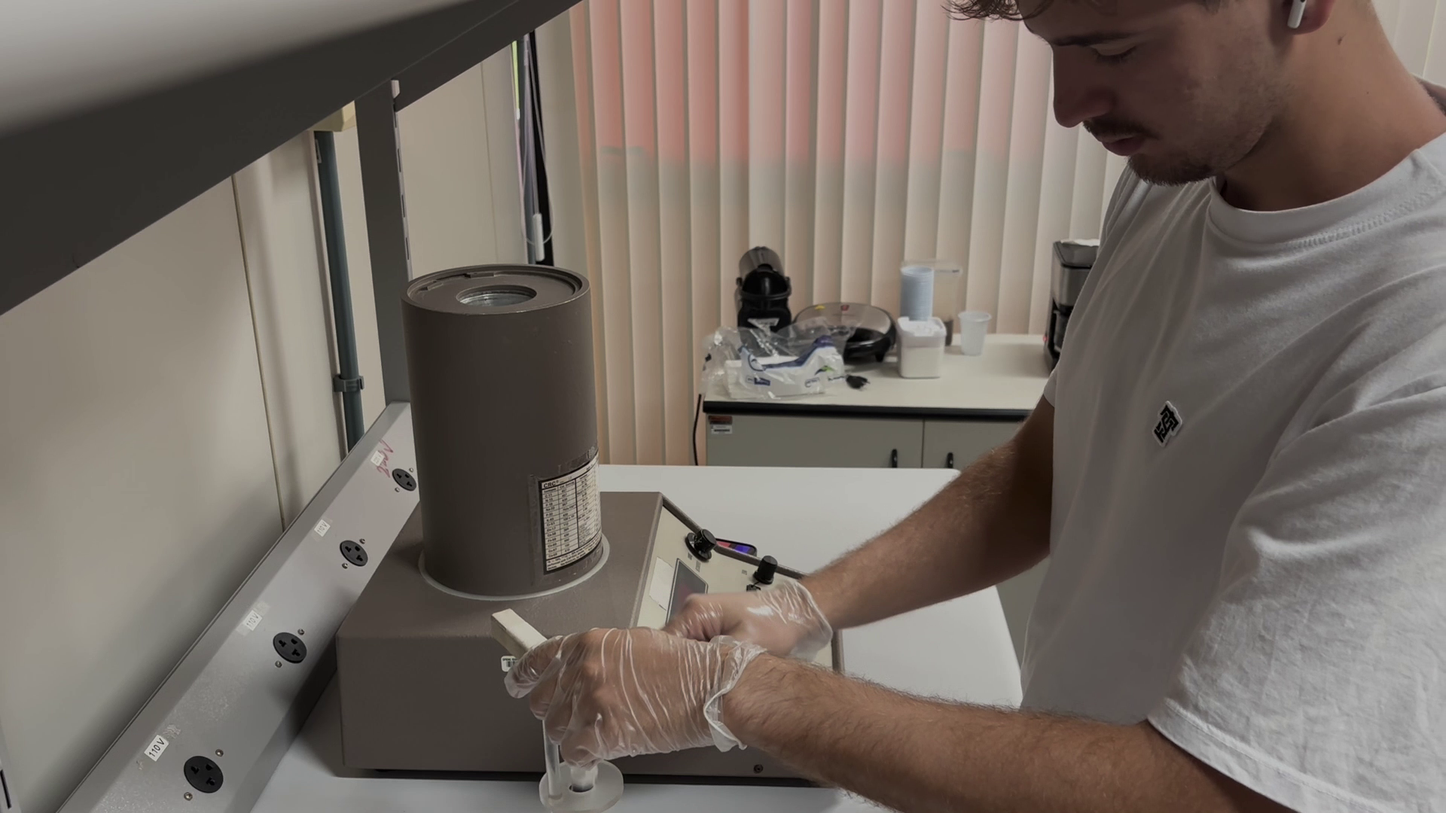Ativimetro: (399, 247, 610, 586)
Cesta: (493, 602, 631, 813)
Com_Luva: (516, 623, 760, 760), (671, 576, 836, 661)
